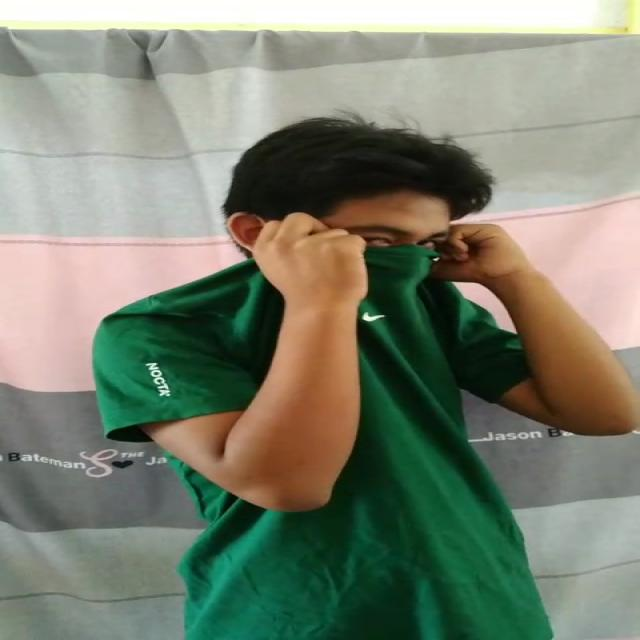8_ropa_rostro: (238, 236, 468, 366)
